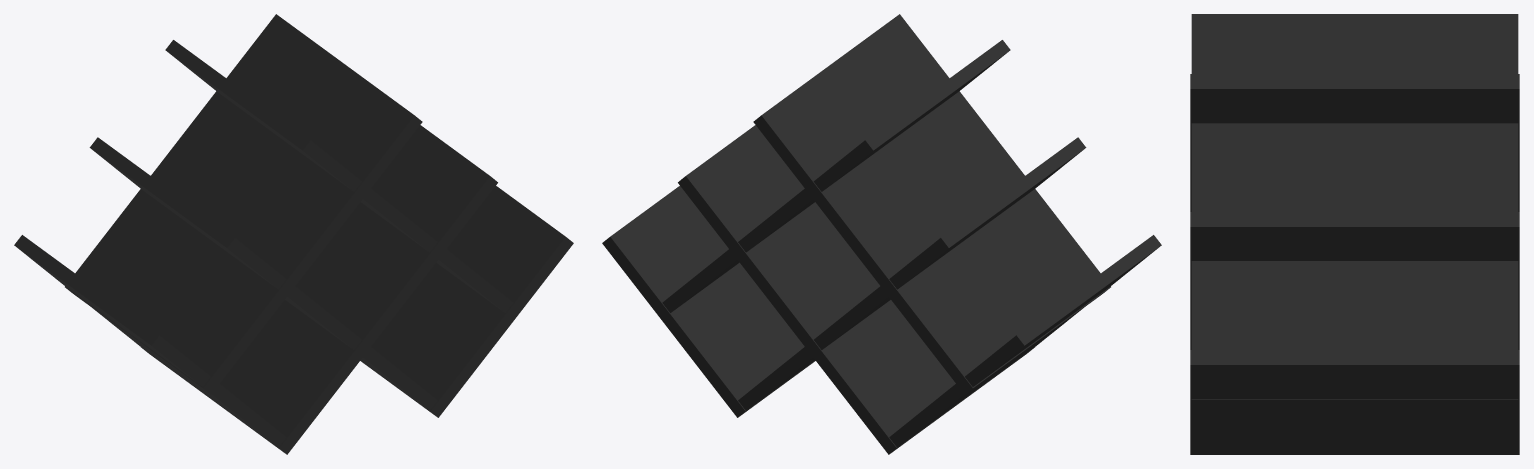
The model's file is WineShelf_01.fbx.
3 renders of one model, left to right at view 1: azimuth 30°, elevation 25°; view 2: azimuth 150°, elevation 25°; view 3: azimuth 270°, elevation 25°, orthographic. The views are drawn at different scales.
Parts seen in each view (by area): view 1: WineShelf_01; view 2: WineShelf_01; view 3: WineShelf_01.
Part boxes in pixels (bbox=[...]): WineShelf_01: bbox=[14, 14, 573, 454]; WineShelf_01: bbox=[602, 14, 1161, 454]; WineShelf_01: bbox=[1190, 14, 1519, 454].
Bounding box in the file's own units: 0.3853 × 0.2693 × 0.2189.
